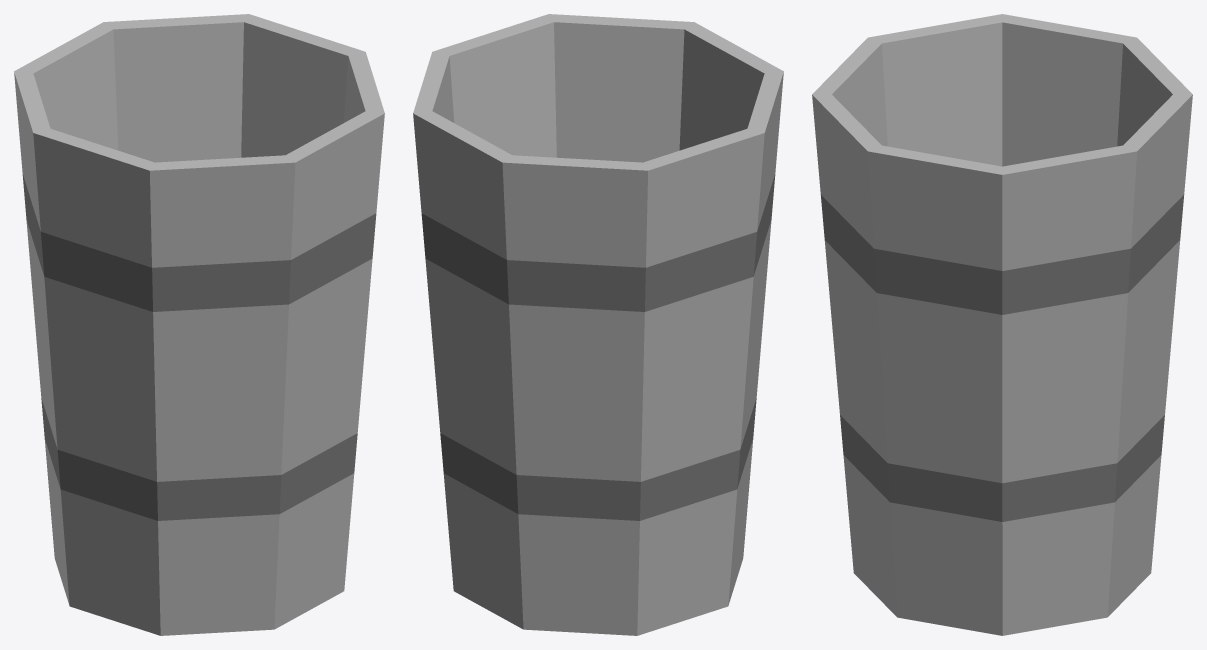
File: SM_TrashCan_01.FBX
3 views of the same model, side by side, from view 1: azimuth 30°, elevation 25°; view 2: azimuth 150°, elevation 25°; view 3: azimuth 270°, elevation 25° (orthographic).
Visible parts, largest first — view 1: SM_TrashCan_01; view 2: SM_TrashCan_01; view 3: SM_TrashCan_01.
Boxes of the visible parts, <box> form: SM_TrashCan_01: <box>14,14,384,635</box>; SM_TrashCan_01: <box>413,14,783,635</box>; SM_TrashCan_01: <box>812,14,1192,635</box>.
Bounding box in the file's own units: 0.4431 × 0.6144 × 0.4431.
1 material, 1 textured.
